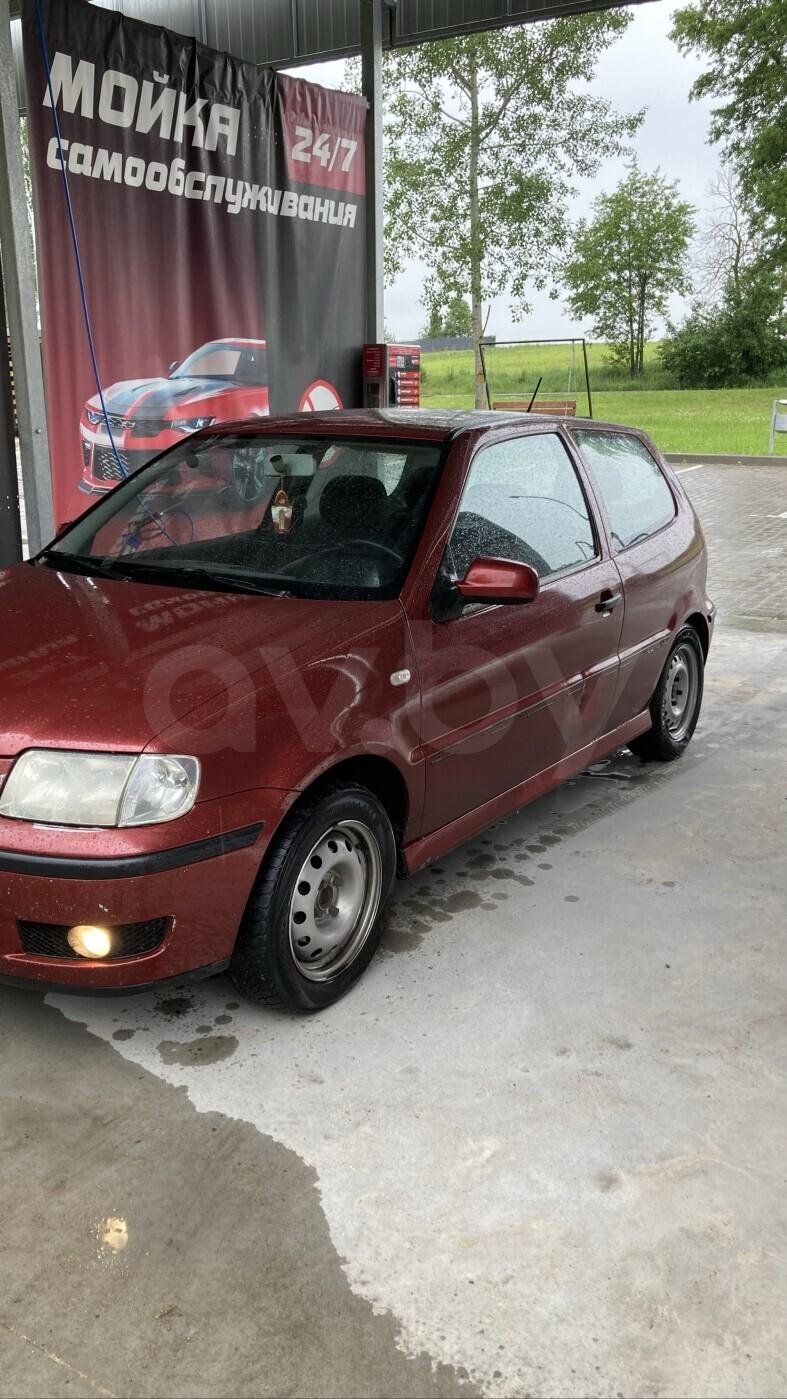Polo_2000-2002: (0, 376, 706, 1052)
